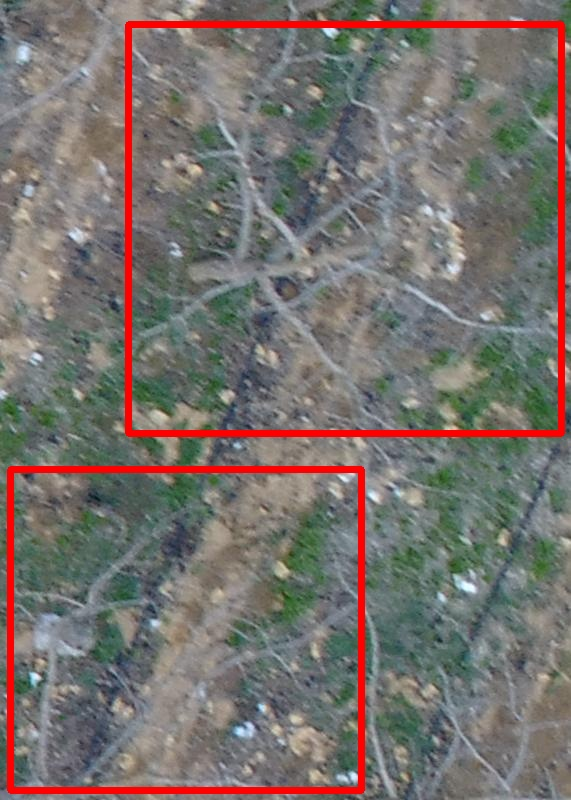apple: (128, 24, 561, 433), (10, 469, 361, 790)
